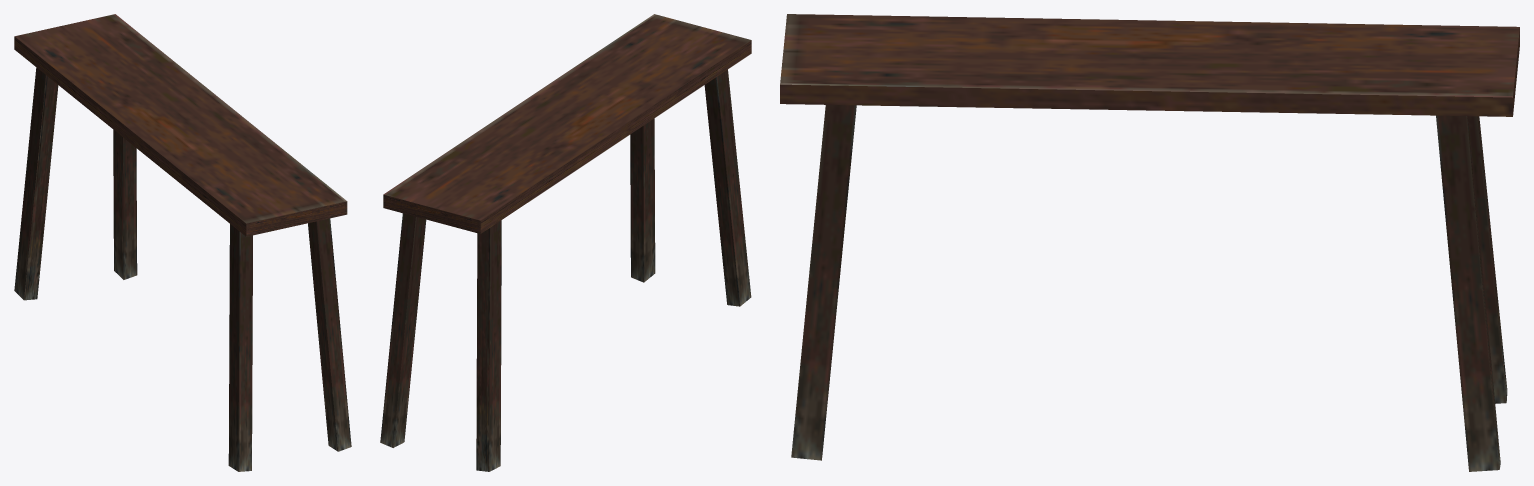
File: xsz_yizi_1.FBX
The picture shows the model from 3 angles, left to right: view 1: azimuth 30°, elevation 25°; view 2: azimuth 150°, elevation 25°; view 3: azimuth 270°, elevation 25°; orthographic projection. The views are drawn at different scales.
Visible parts, largest first — view 1: xsz_yizi_1; view 2: xsz_yizi_1; view 3: xsz_yizi_1.
Boxes of the visible parts, x1,y1,x2,y2 form: xsz_yizi_1: [14, 14, 351, 471]; xsz_yizi_1: [380, 14, 751, 471]; xsz_yizi_1: [780, 14, 1519, 471].
Size of the model in its own units: 0.7328 by 1.39 by 2.5.
